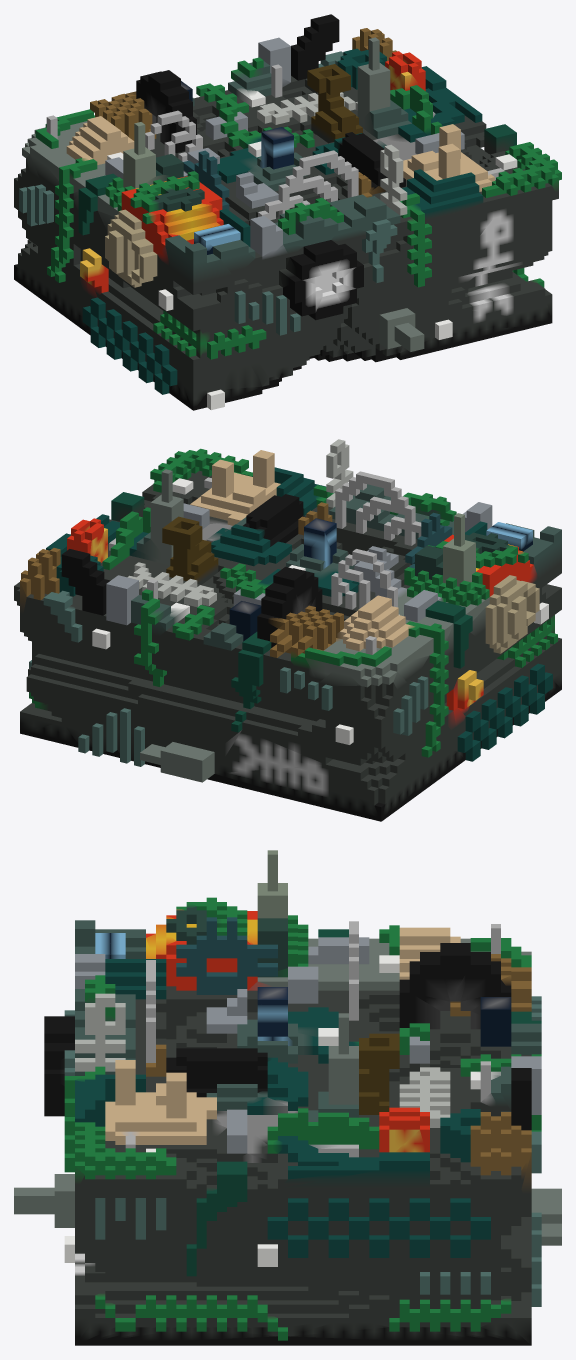
File: Modell_MuellKlotz.dae
3 renders of one model, top to bottom at view 1: azimuth 30°, elevation 25°; view 2: azimuth 150°, elevation 25°; view 3: azimuth 270°, elevation 25°, orthographic. The views are drawn at different scales.
Visible parts, largest first — view 1: modell_muellklotz.muell1; view 2: modell_muellklotz.muell1; view 3: modell_muellklotz.muell1.
Part boxes in pixels (box(x1,y1,x2,y2)): modell_muellklotz.muell1: box(14, 14, 561, 410); modell_muellklotz.muell1: box(14, 439, 561, 821); modell_muellklotz.muell1: box(14, 850, 561, 1345).
Bounding box in the file's own units: 5.8 × 5.4 × 3.1.
Materials: 1 (1 with a texture image).
